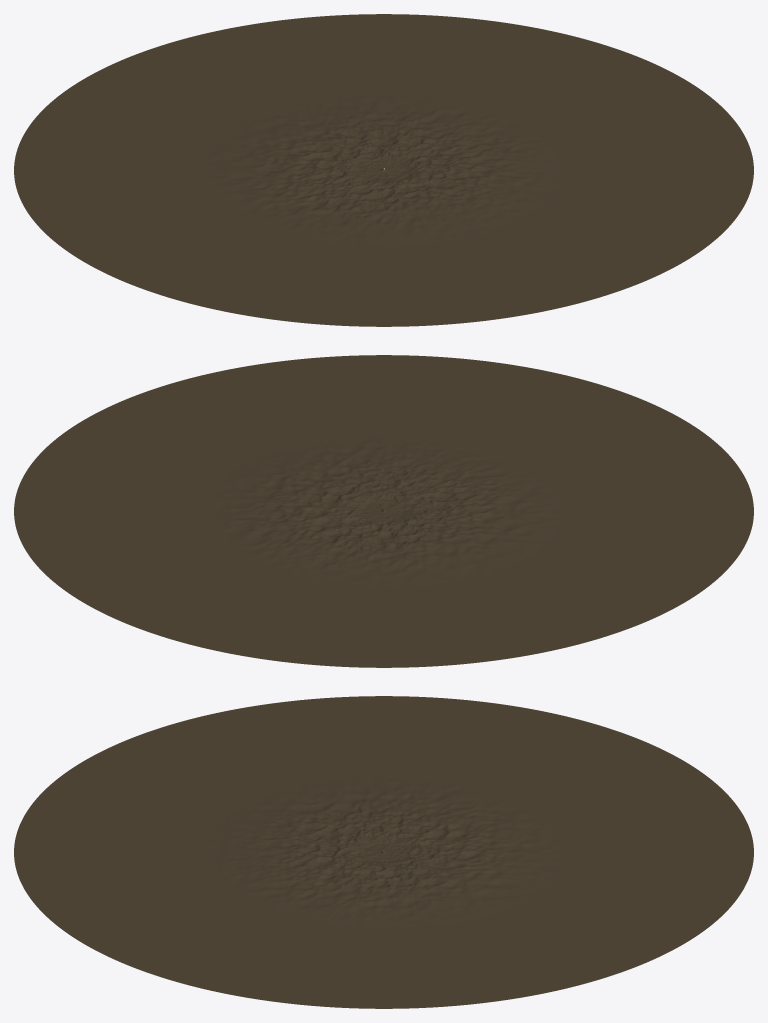
3 renders of one model, top to bottom at view 1: azimuth 30°, elevation 25°; view 2: azimuth 150°, elevation 25°; view 3: azimuth 270°, elevation 25°, orthographic.
Visible parts, largest first — view 1: Volcano_Terrain.001; view 2: Volcano_Terrain.001; view 3: Volcano_Terrain.001.
Part boxes in pixels (left/top/right/bottom): Volcano_Terrain.001: left=14, top=14, right=753, bottom=326; Volcano_Terrain.001: left=14, top=355, right=753, bottom=667; Volcano_Terrain.001: left=14, top=696, right=753, bottom=1008.
Size of the model in its own units: 109995 by 604 by 109995.
